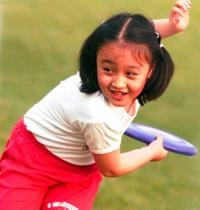person without safety: (34, 9, 176, 186)
